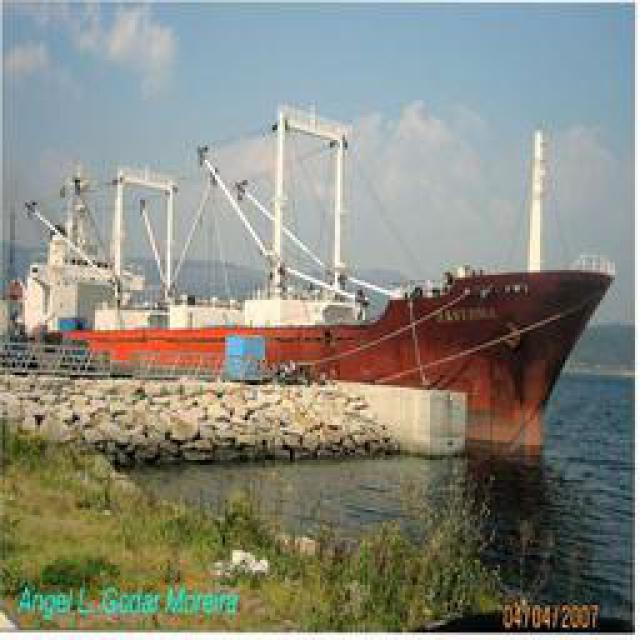Ship: (18, 112, 606, 425)
